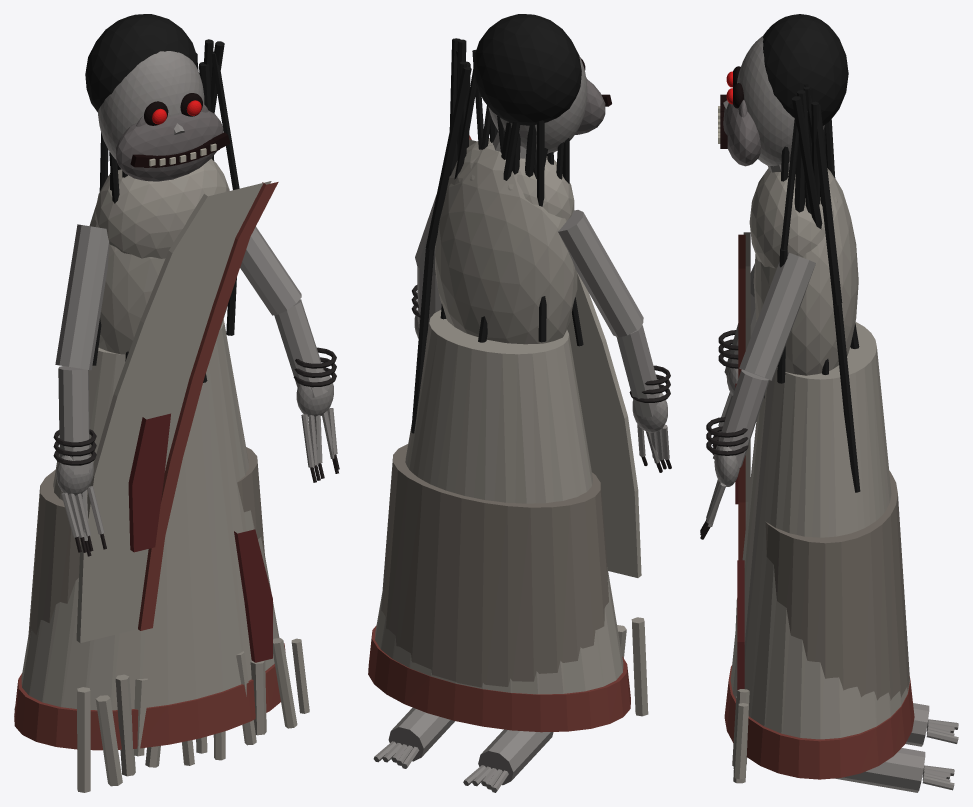
Rendered from chudail.glb.
3 renders of one model, left to right at view 1: azimuth 30°, elevation 25°; view 2: azimuth 150°, elevation 25°; view 3: azimuth 270°, elevation 25°, orthographic. The views are drawn at different scales.
Parts seen in each view (by area): view 1: Nirmala; view 2: Nirmala; view 3: Nirmala.
Boxes of the visible parts, x1=… form: Nirmala: x1=14, y1=14, x2=339, y2=792; Nirmala: x1=368, y1=14, x2=671, y2=792; Nirmala: x1=700, y1=14, x2=958, y2=792.
Size of the model in its own units: 0.766 by 2.02 by 0.6389.
